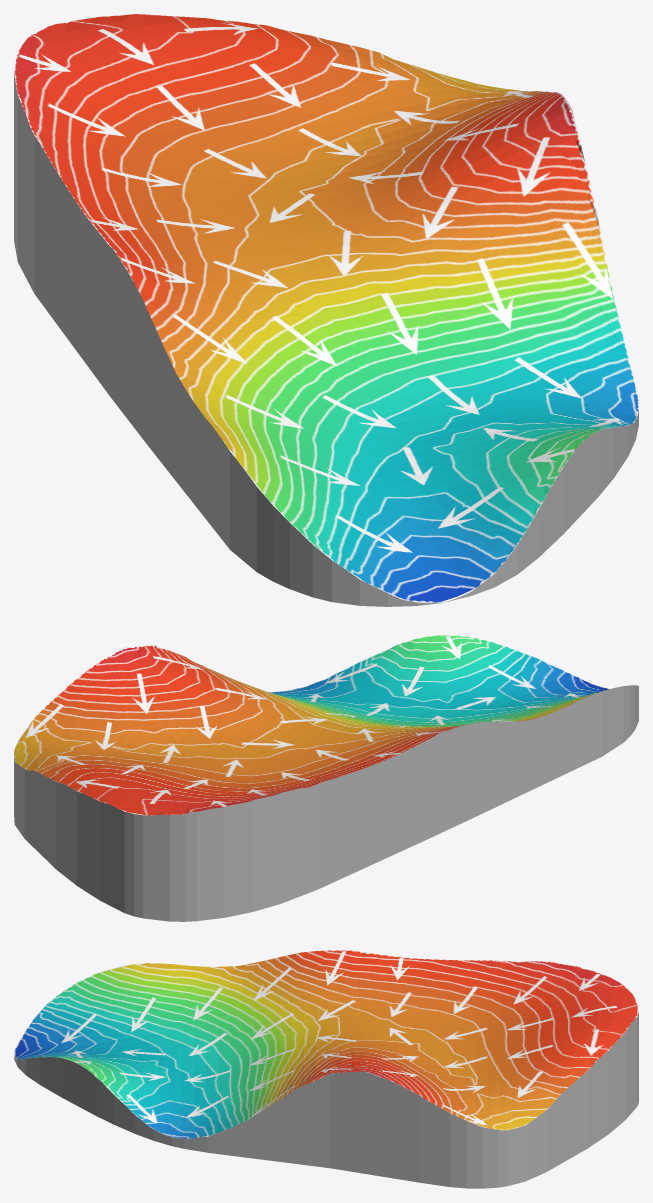
3 views of the same model, one above another, from view 1: azimuth 30°, elevation 25°; view 2: azimuth 150°, elevation 25°; view 3: azimuth 270°, elevation 25° (orthographic). The views are drawn at different scales.
Size of the model in its own units: 3.09 by 0.8756 by 4.85.
Materials: 2 (1 with a texture image).
